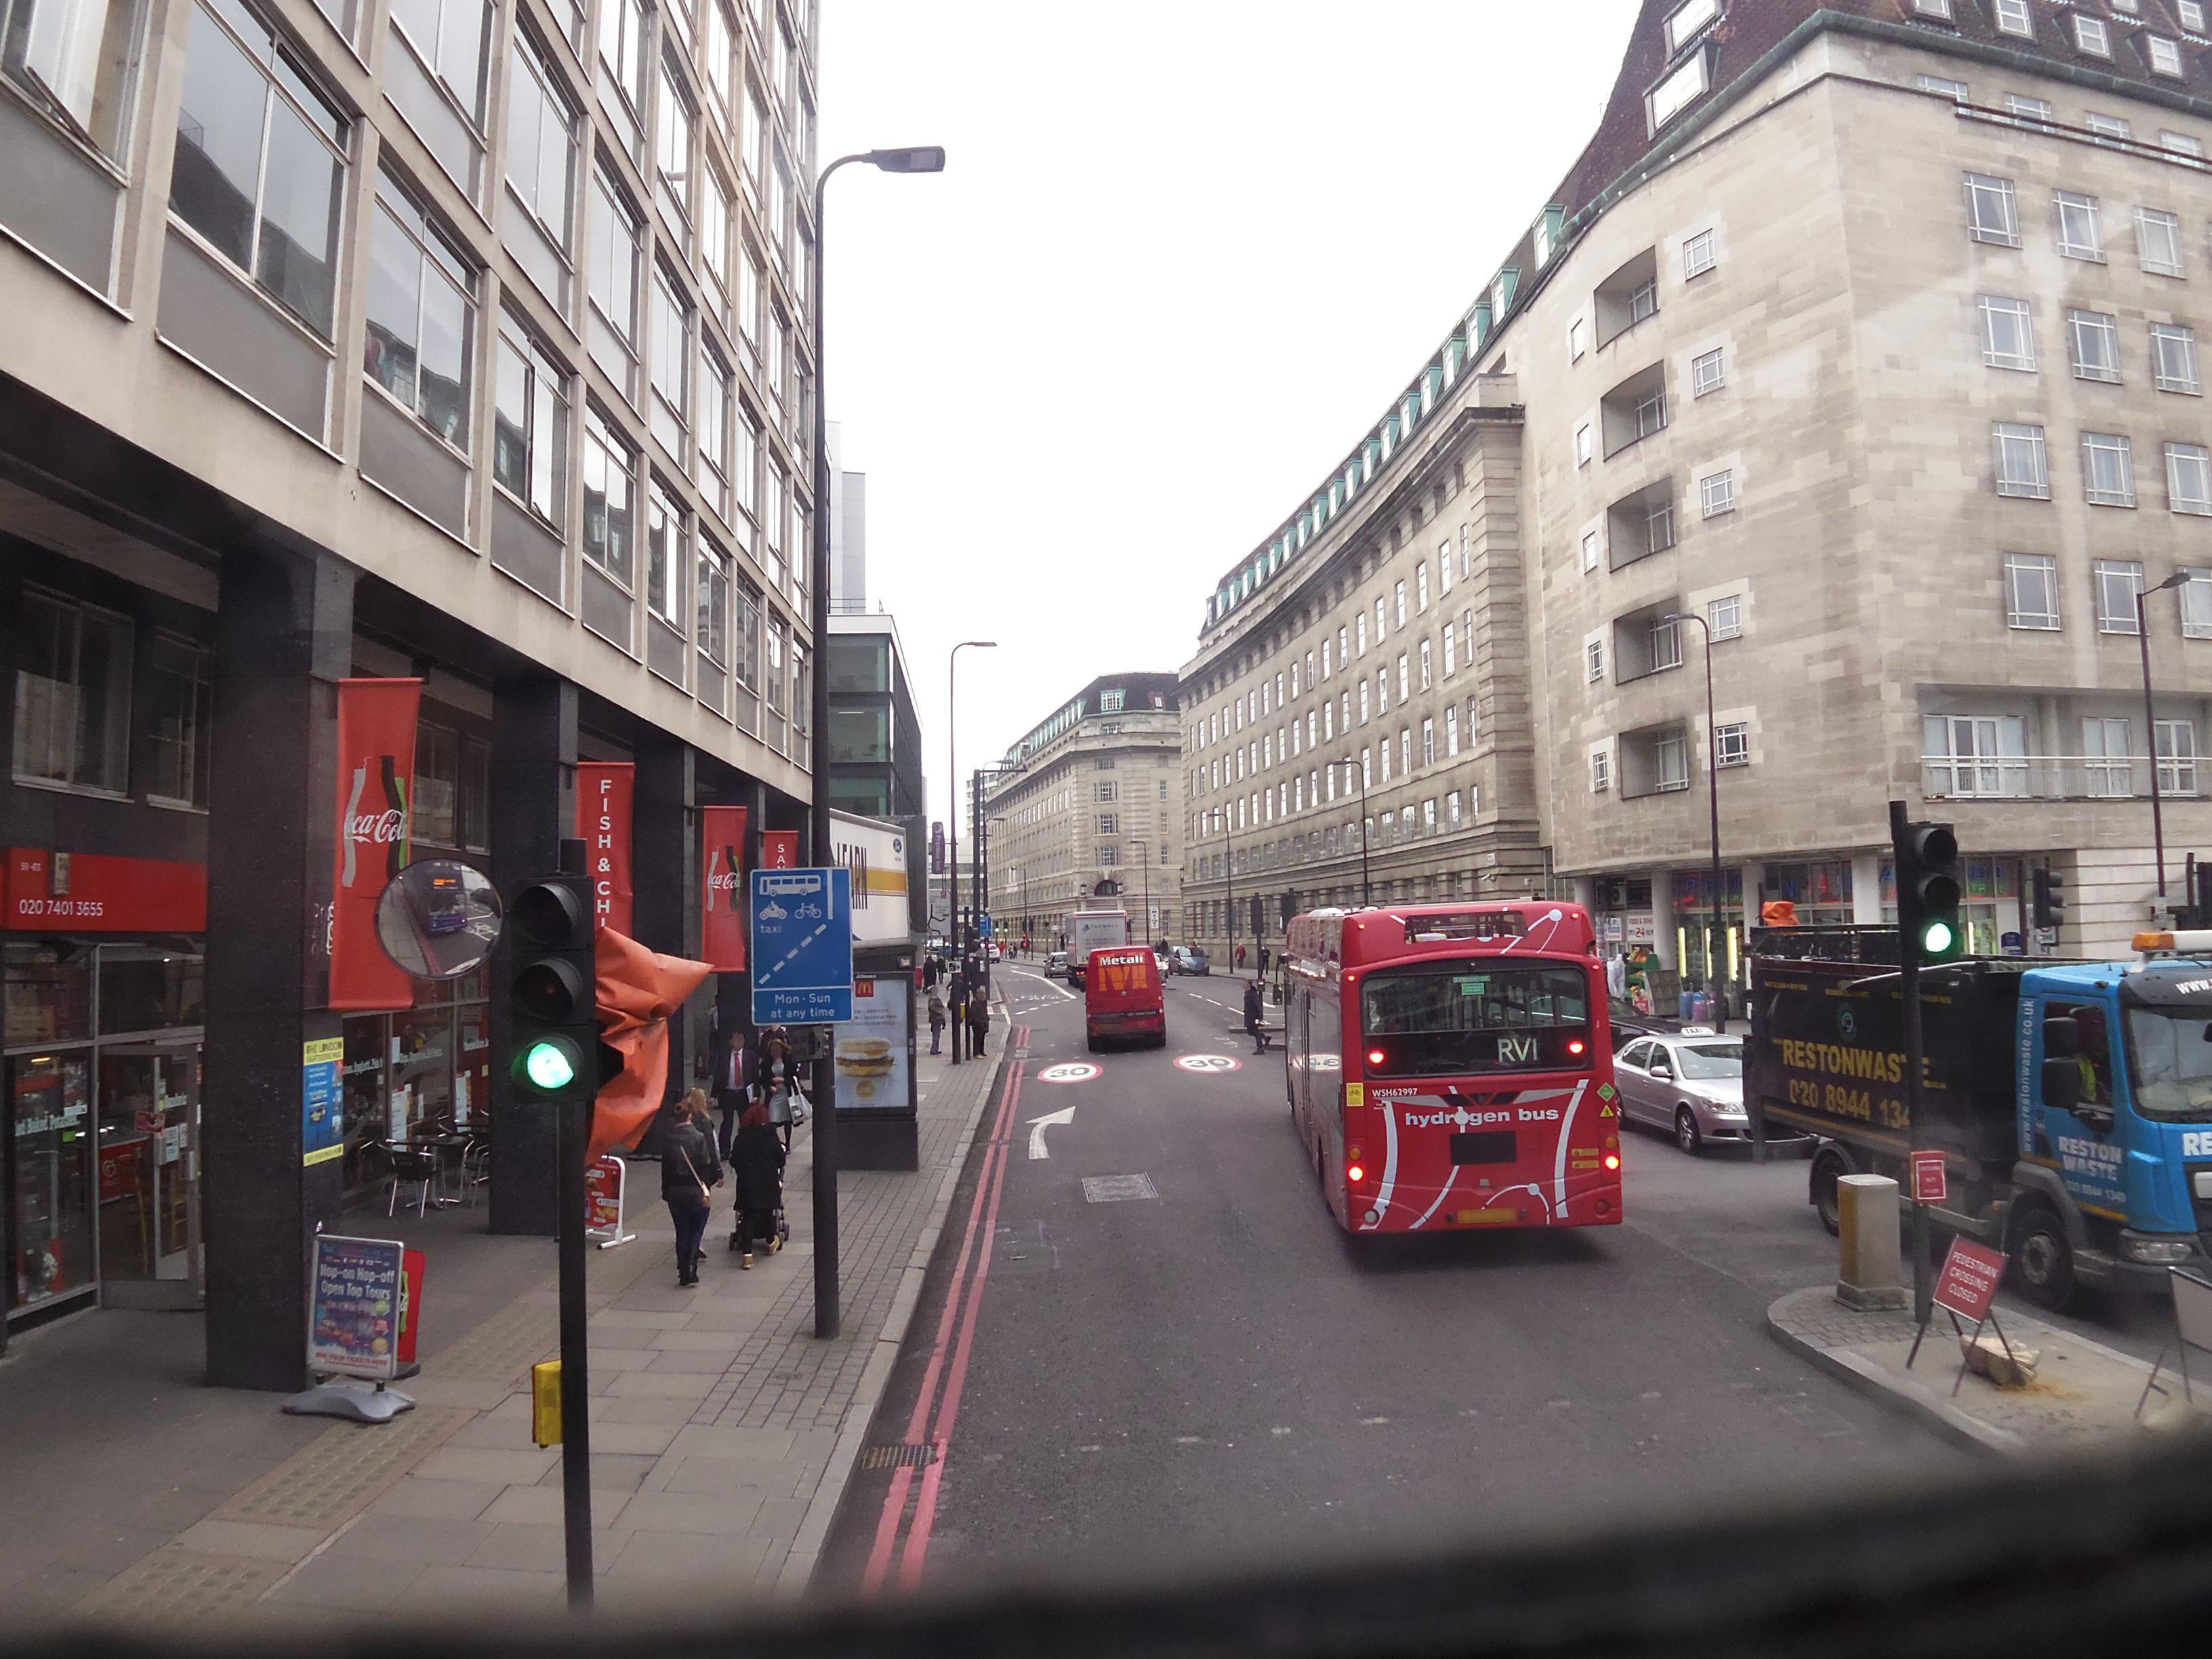vinyl banner: (303, 641, 444, 1030), (564, 755, 653, 1006), (691, 781, 759, 990)
